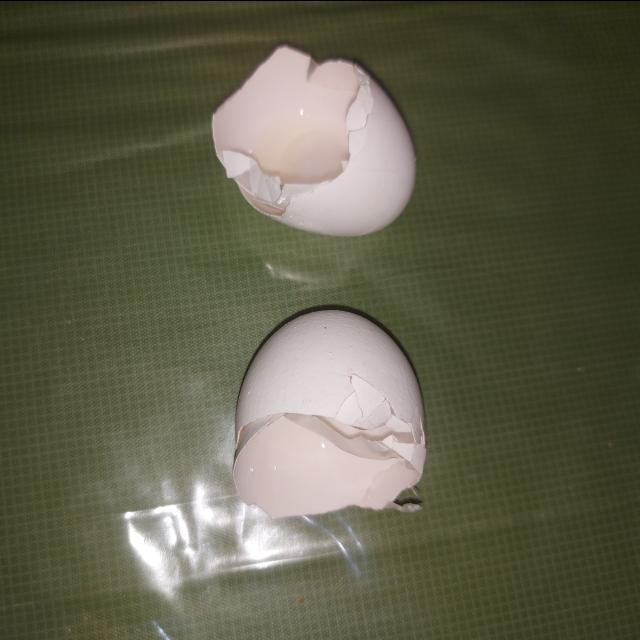egg shell: (232, 308, 428, 518), (208, 43, 418, 237)
